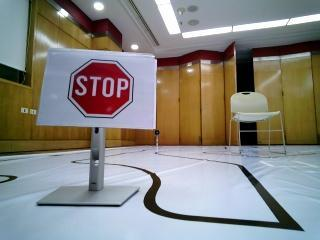stop: (49, 50, 151, 127)
